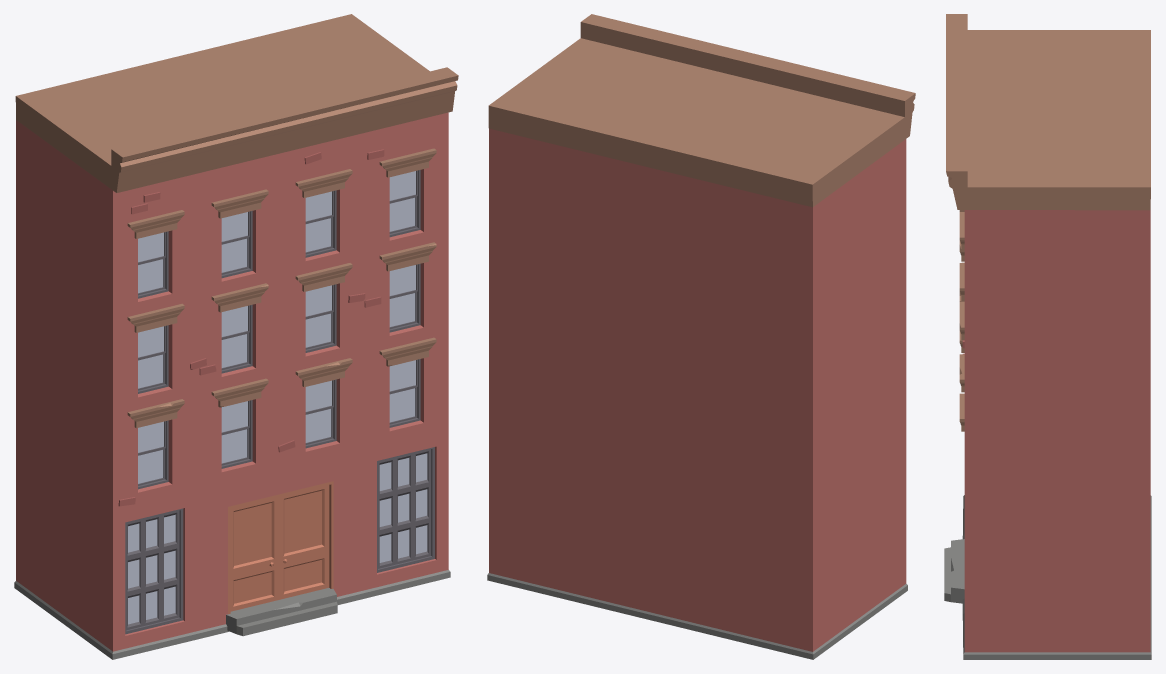
File: building-red.glb
3 renders of one model, left to right at view 1: azimuth 30°, elevation 25°; view 2: azimuth 150°, elevation 25°; view 3: azimuth 270°, elevation 25°, orthographic. The views are drawn at different scales.
Visible parts, largest first — view 1: BuildingRed1; view 2: BuildingRed1; view 3: BuildingRed1.
Boxes of the visible parts, <box> form: BuildingRed1: <box>14,14,458,659</box>; BuildingRed1: <box>487,14,915,659</box>; BuildingRed1: <box>944,14,1151,659</box>.
Size of the model in its own units: 2.42 by 3.48 by 1.34.
Materials: 1 (1 with a texture image).
